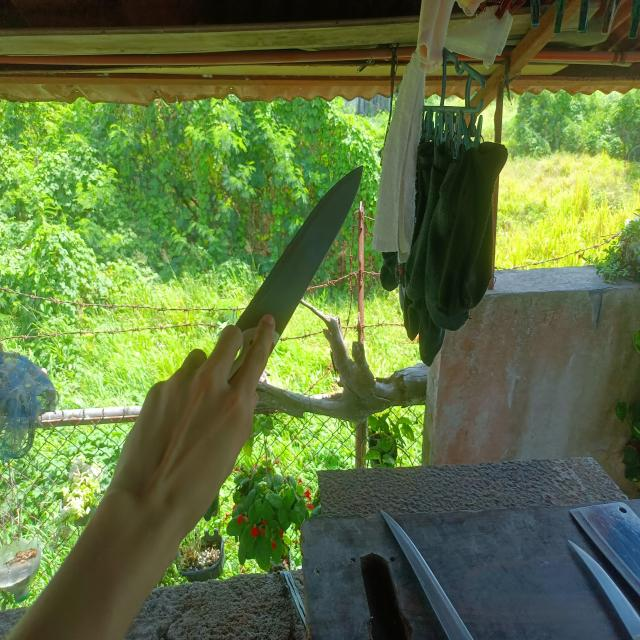knife: (235, 164, 363, 336)
